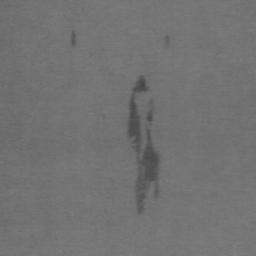Iron scale compression: (129, 76, 158, 214), (69, 30, 78, 48), (163, 35, 171, 50)
